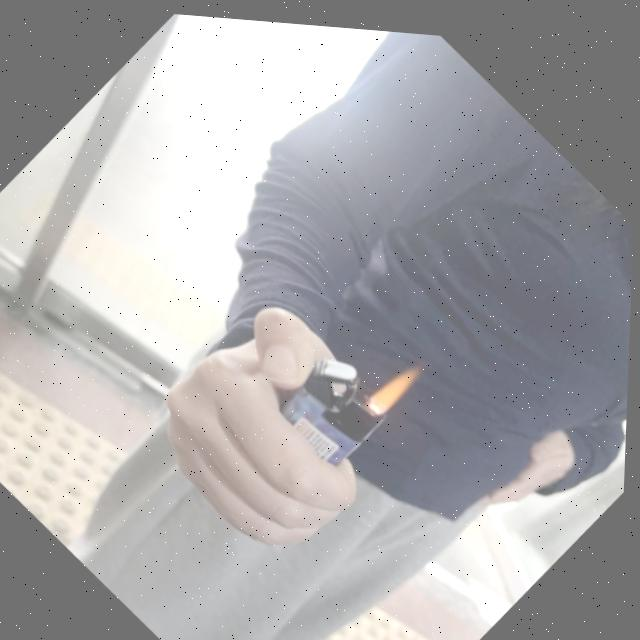Fire: (368, 349, 430, 418)
